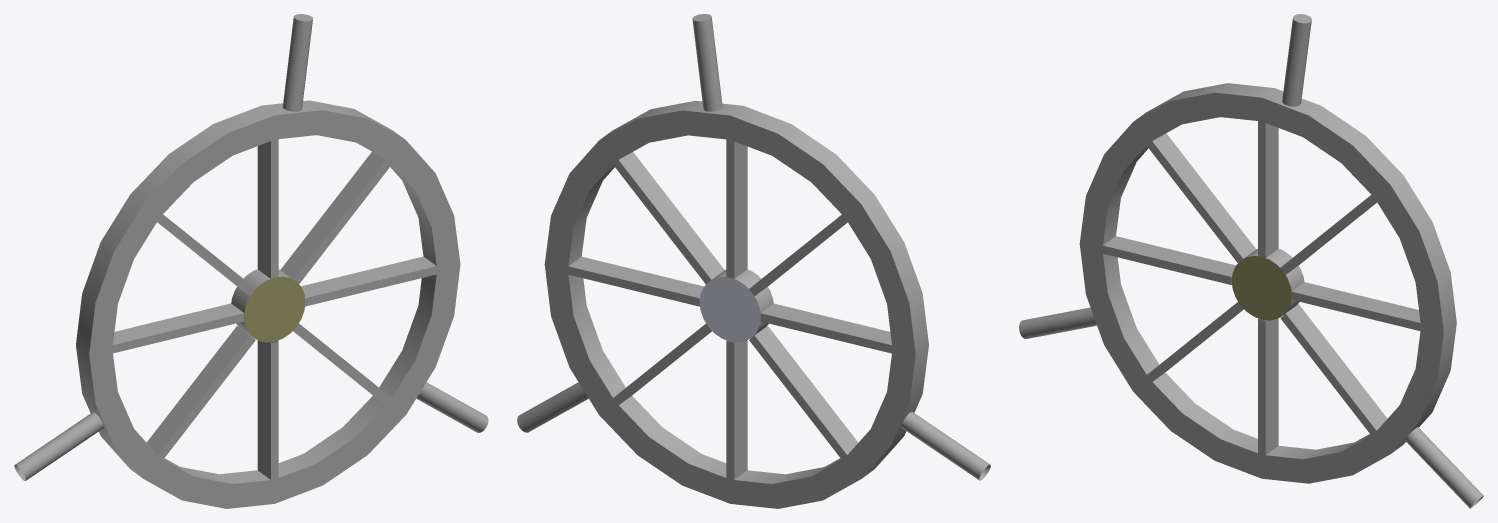
Rendered from pp03-valve.dae.
3 views of the same model, side by side, from view 1: azimuth 30°, elevation 25°; view 2: azimuth 150°, elevation 25°; view 3: azimuth 330°, elevation 25° (orthographic).
Visible parts, largest first — view 1: group_2 (×3), group_1 (×4), group_4, group_8, group_7, group_3, group_5, group_9, group_10, group_6; view 2: group_2 (×3), group_1 (×4), group_4, group_8, group_7, group_3, group_5, group_9, group_6, group_10; view 3: group_2 (×3), group_1 (×4), group_10, group_6, group_7, group_3, group_9, group_5, group_4, group_8.
Boxes of the visible parts, x1,y1,x2,y2 form: group_2 (×3): (76, 14, 460, 508); group_1 (×4): (14, 269, 488, 480); group_4: (280, 151, 391, 283); group_8: (146, 326, 255, 460); group_7: (257, 340, 278, 480); group_3: (257, 138, 278, 278); group_5: (301, 256, 437, 306); group_9: (112, 303, 244, 353); group_10: (157, 214, 255, 295); group_6: (293, 323, 391, 404); group_2 (×3): (544, 14, 928, 508); group_1 (×4): (517, 269, 990, 480); group_4: (613, 152, 724, 283); group_8: (749, 326, 858, 459); group_7: (726, 340, 747, 480); group_3: (726, 139, 747, 278); group_5: (567, 256, 703, 306); group_9: (760, 303, 892, 353); group_6: (613, 323, 711, 404); group_10: (749, 214, 847, 295); group_2 (×3): (1079, 14, 1456, 483); group_1 (×4): (1019, 248, 1483, 508); group_10: (1146, 133, 1256, 262); group_6: (1280, 304, 1387, 435); group_7: (1258, 318, 1278, 455); group_3: (1258, 120, 1278, 257); group_9: (1102, 236, 1235, 284); group_5: (1291, 282, 1420, 331); group_4: (1280, 194, 1376, 274); group_8: (1147, 302, 1243, 381).
Bounding box in the file's own units: 24.07 × 1.18 × 23.22.
